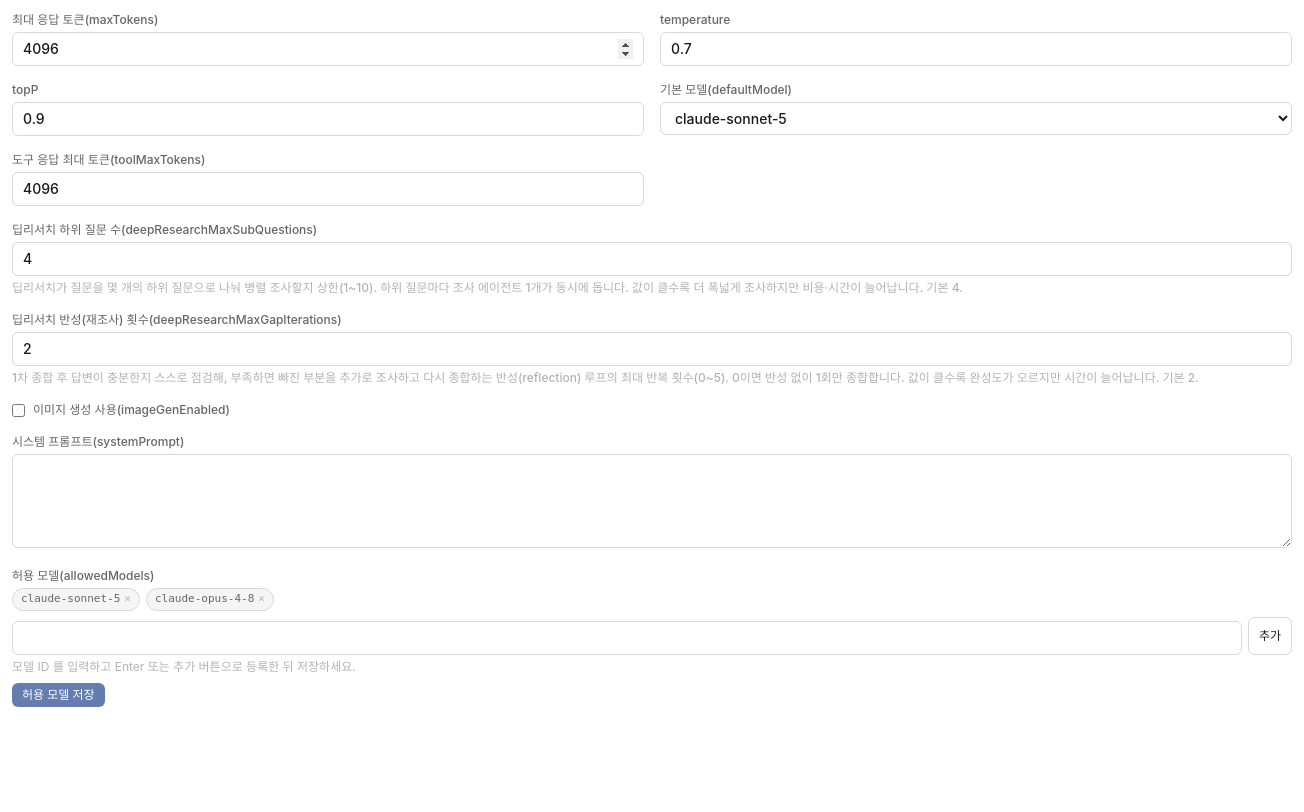
Test: ModelsGenerationTab › 저장 실패 시 편집을 롤백한다
Step 1. Click the button with test id "admin-settings-allowedModels-remove-claude-opus-4-8" → (262, 599), box [258,591,265,608]
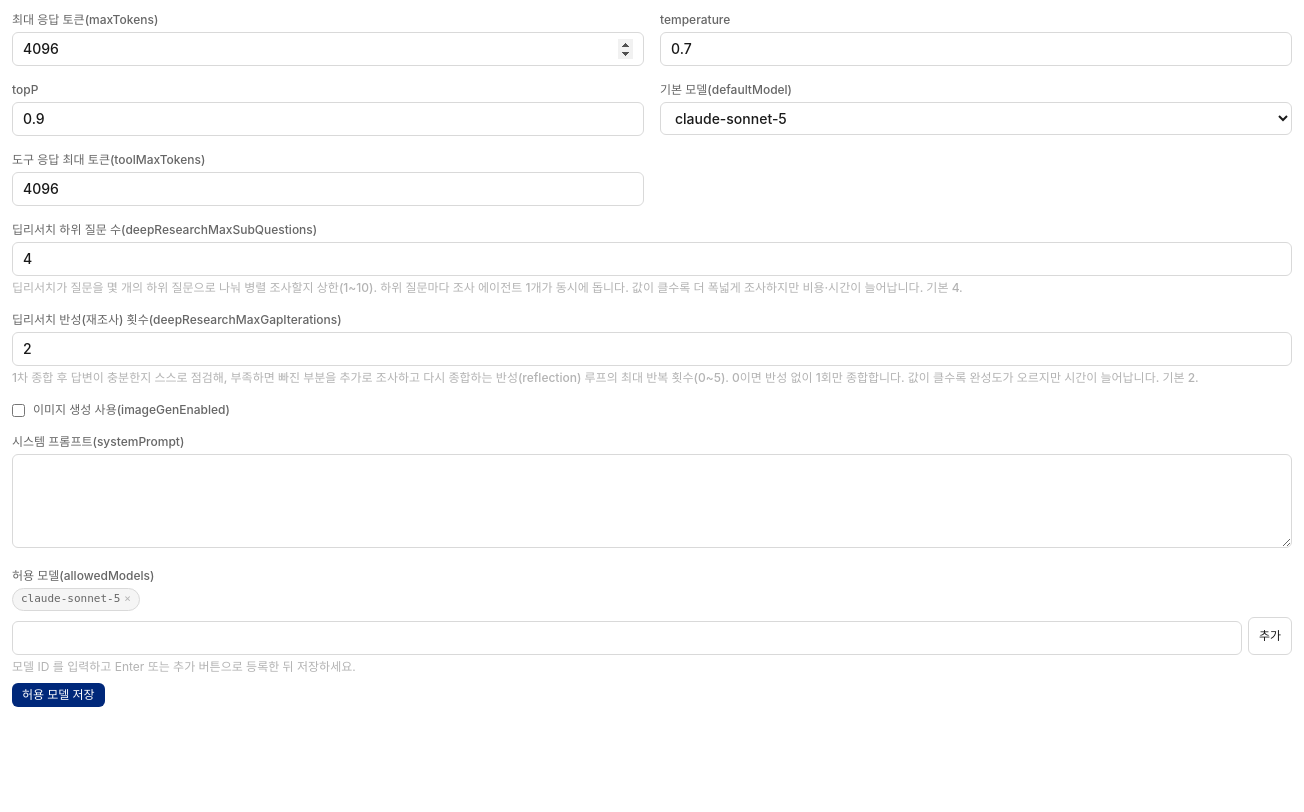
Step 2. Click the button with test id "admin-settings-allowedModels-save" → (58, 694), box [12,682,105,706]
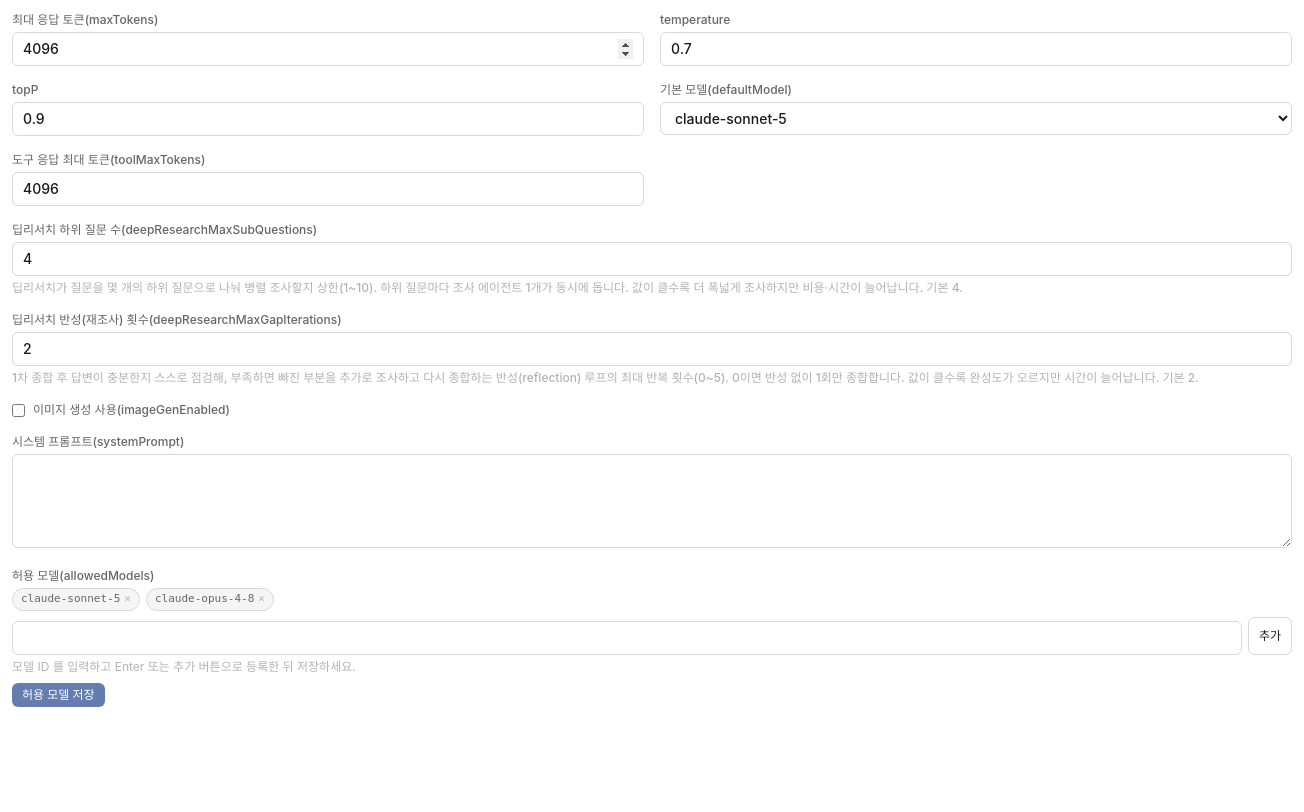
Check: the element with test id "admin-settings-allowedModels-list" shows "claude-opus-4-8", box [155,592,254,605]
